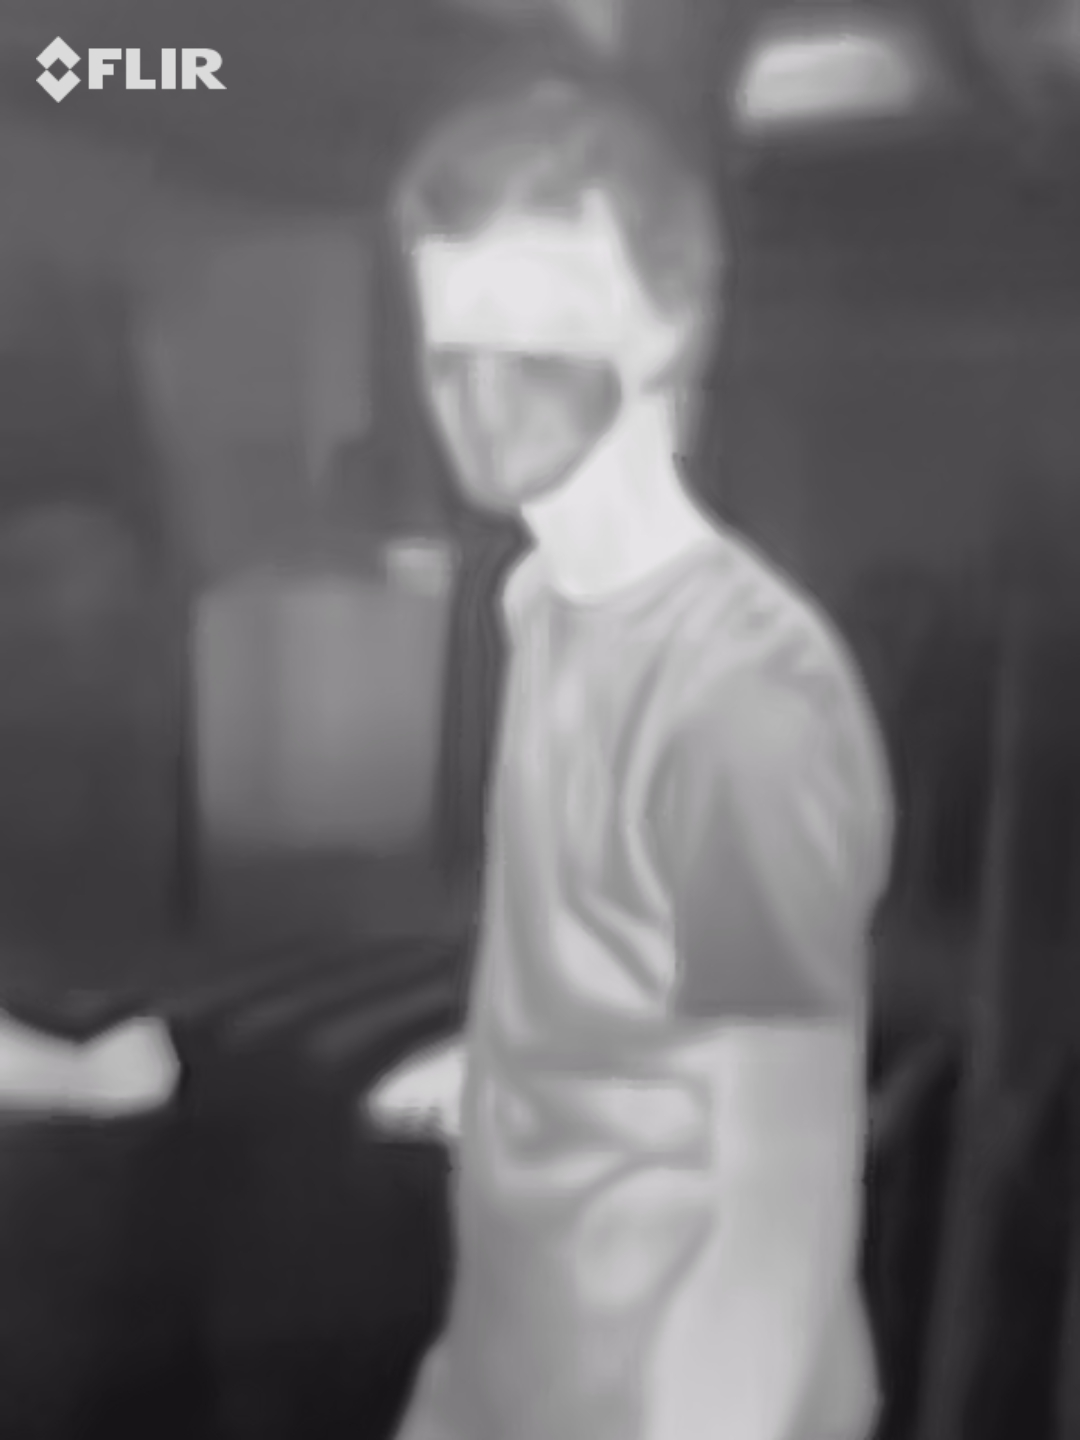head: (376, 75, 745, 530)
